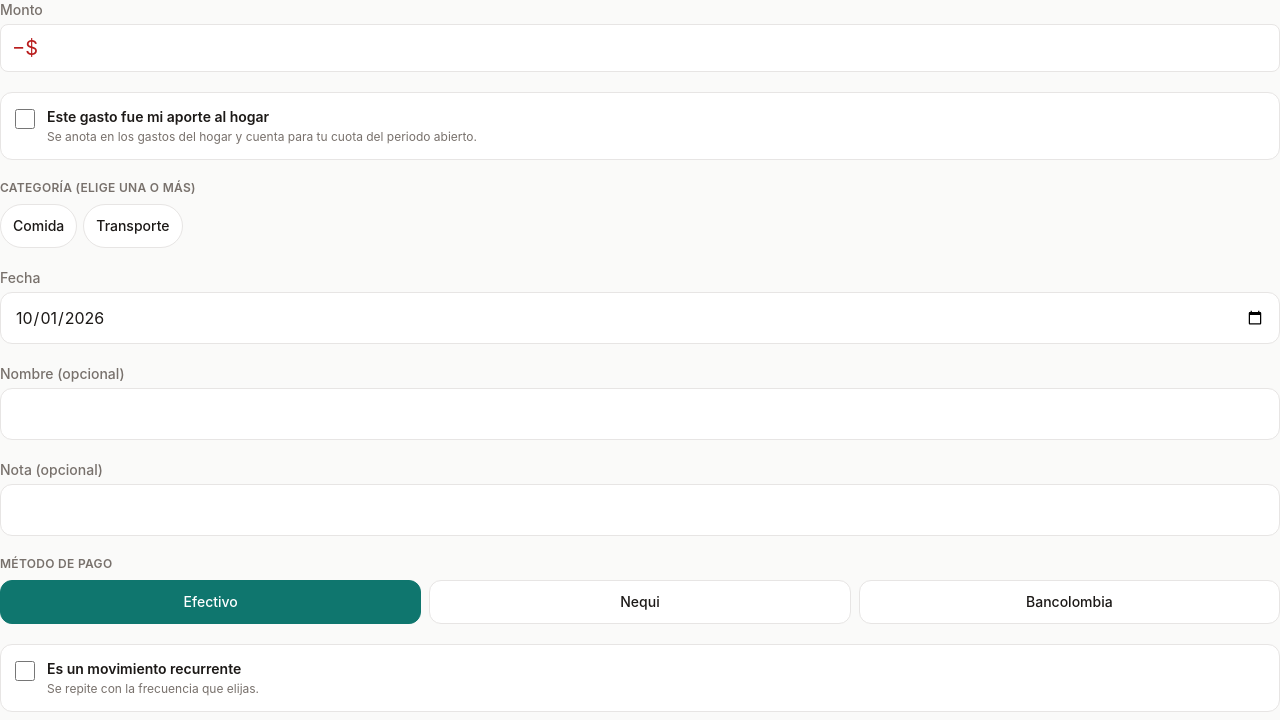
it: TransactionForm › keeps the frequency selector hidden until recurring is checked
Expected: the button "Comida" is shown, [0, 204, 77, 248]
Click the checkbox labelled "recurrente": coordinates (25, 671) [15, 661, 35, 681]
(page scrolled)
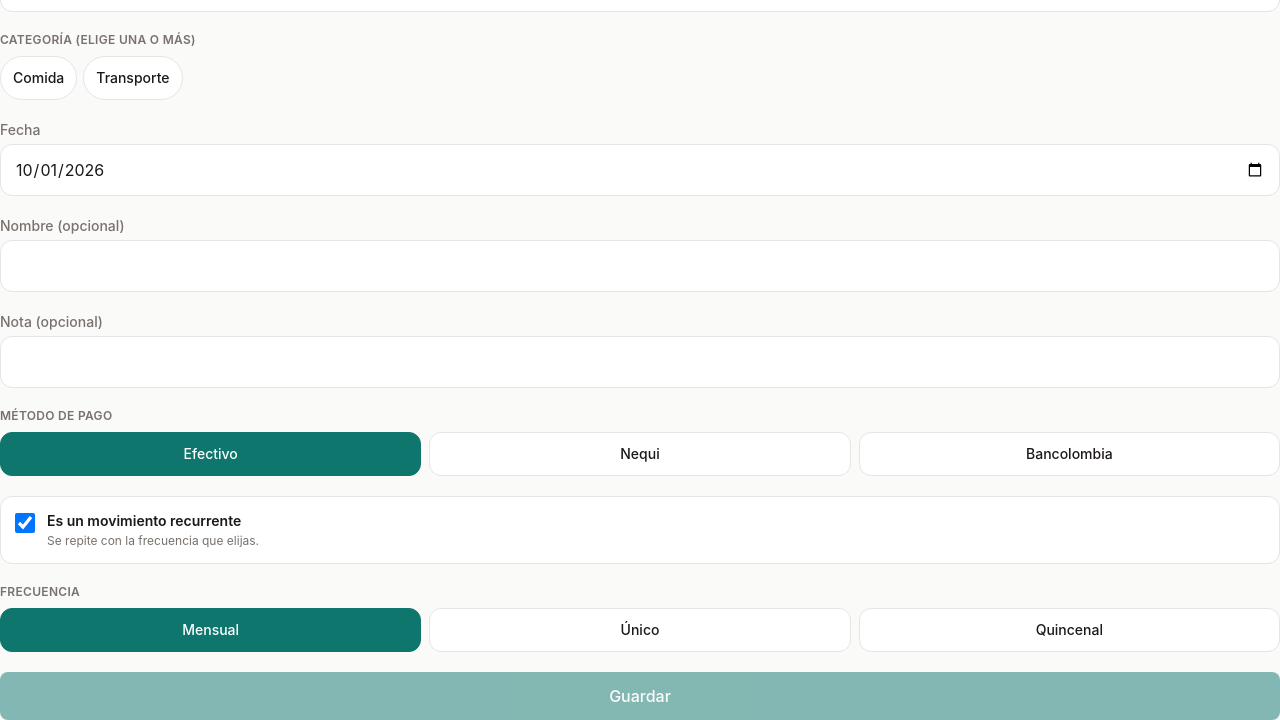
Now the element named "Frecuencia" is shown, box [0, 608, 1279, 652]
Now the radio button "Mensual" is shown, box [0, 608, 421, 652]
Now the radio button "Único" is shown, box [429, 608, 851, 652]
